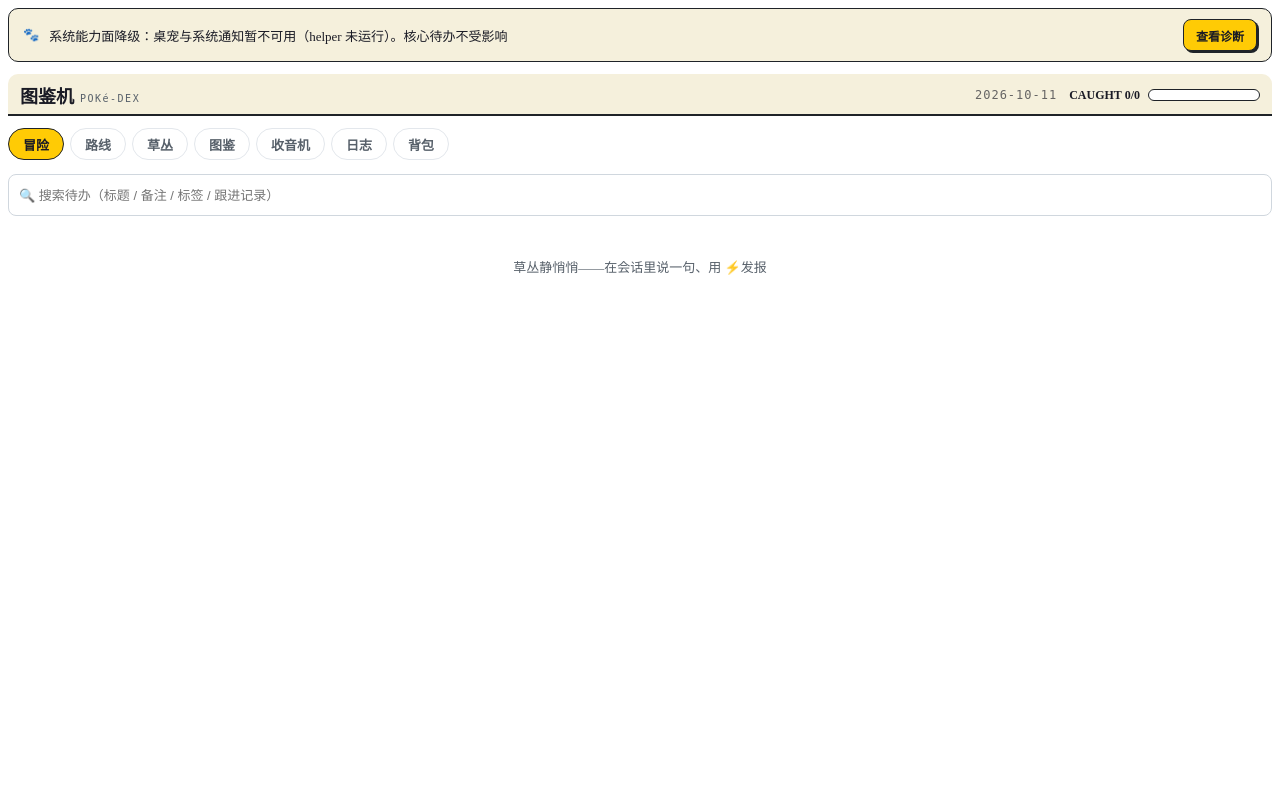
HelperBanner（面板顶部 · U30） › helper 缺席（helperCaps null）→ 静态横幅（role=status）+「查看诊断」锚到诊断分区
Expected: the message with test id "helper-banner" shows "系统能力面降级", left=49, top=28, right=507, bottom=44
Expected: the message with test id "helper-banner" shows "核心待办不受影响", left=49, top=28, right=507, bottom=44
Click the button "查看诊断": point(1220, 35) left=1183, top=19, right=1257, bottom=51
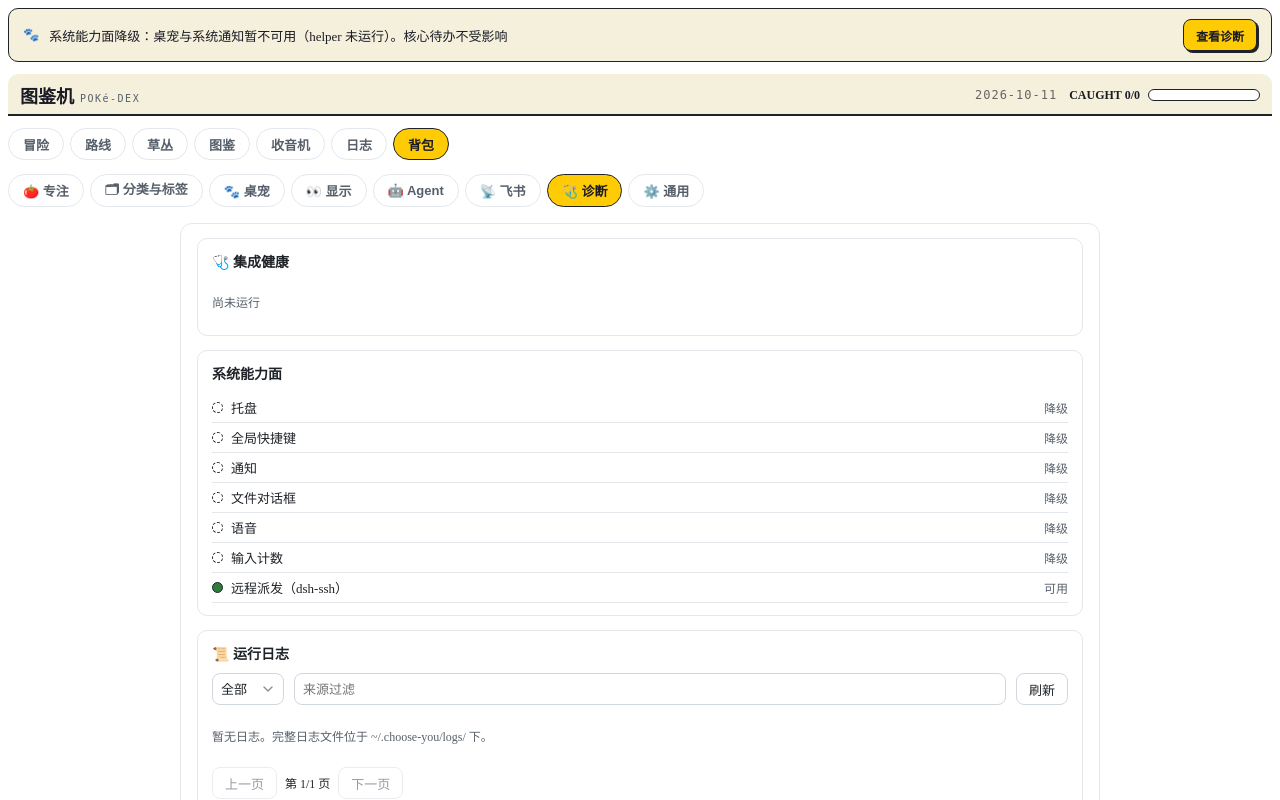
Expected: the element with test id "helper-caps" is shown, left=197, top=350, right=1083, bottom=616
Expected: the text "托盘" is shown, left=231, top=398, right=257, bottom=417
